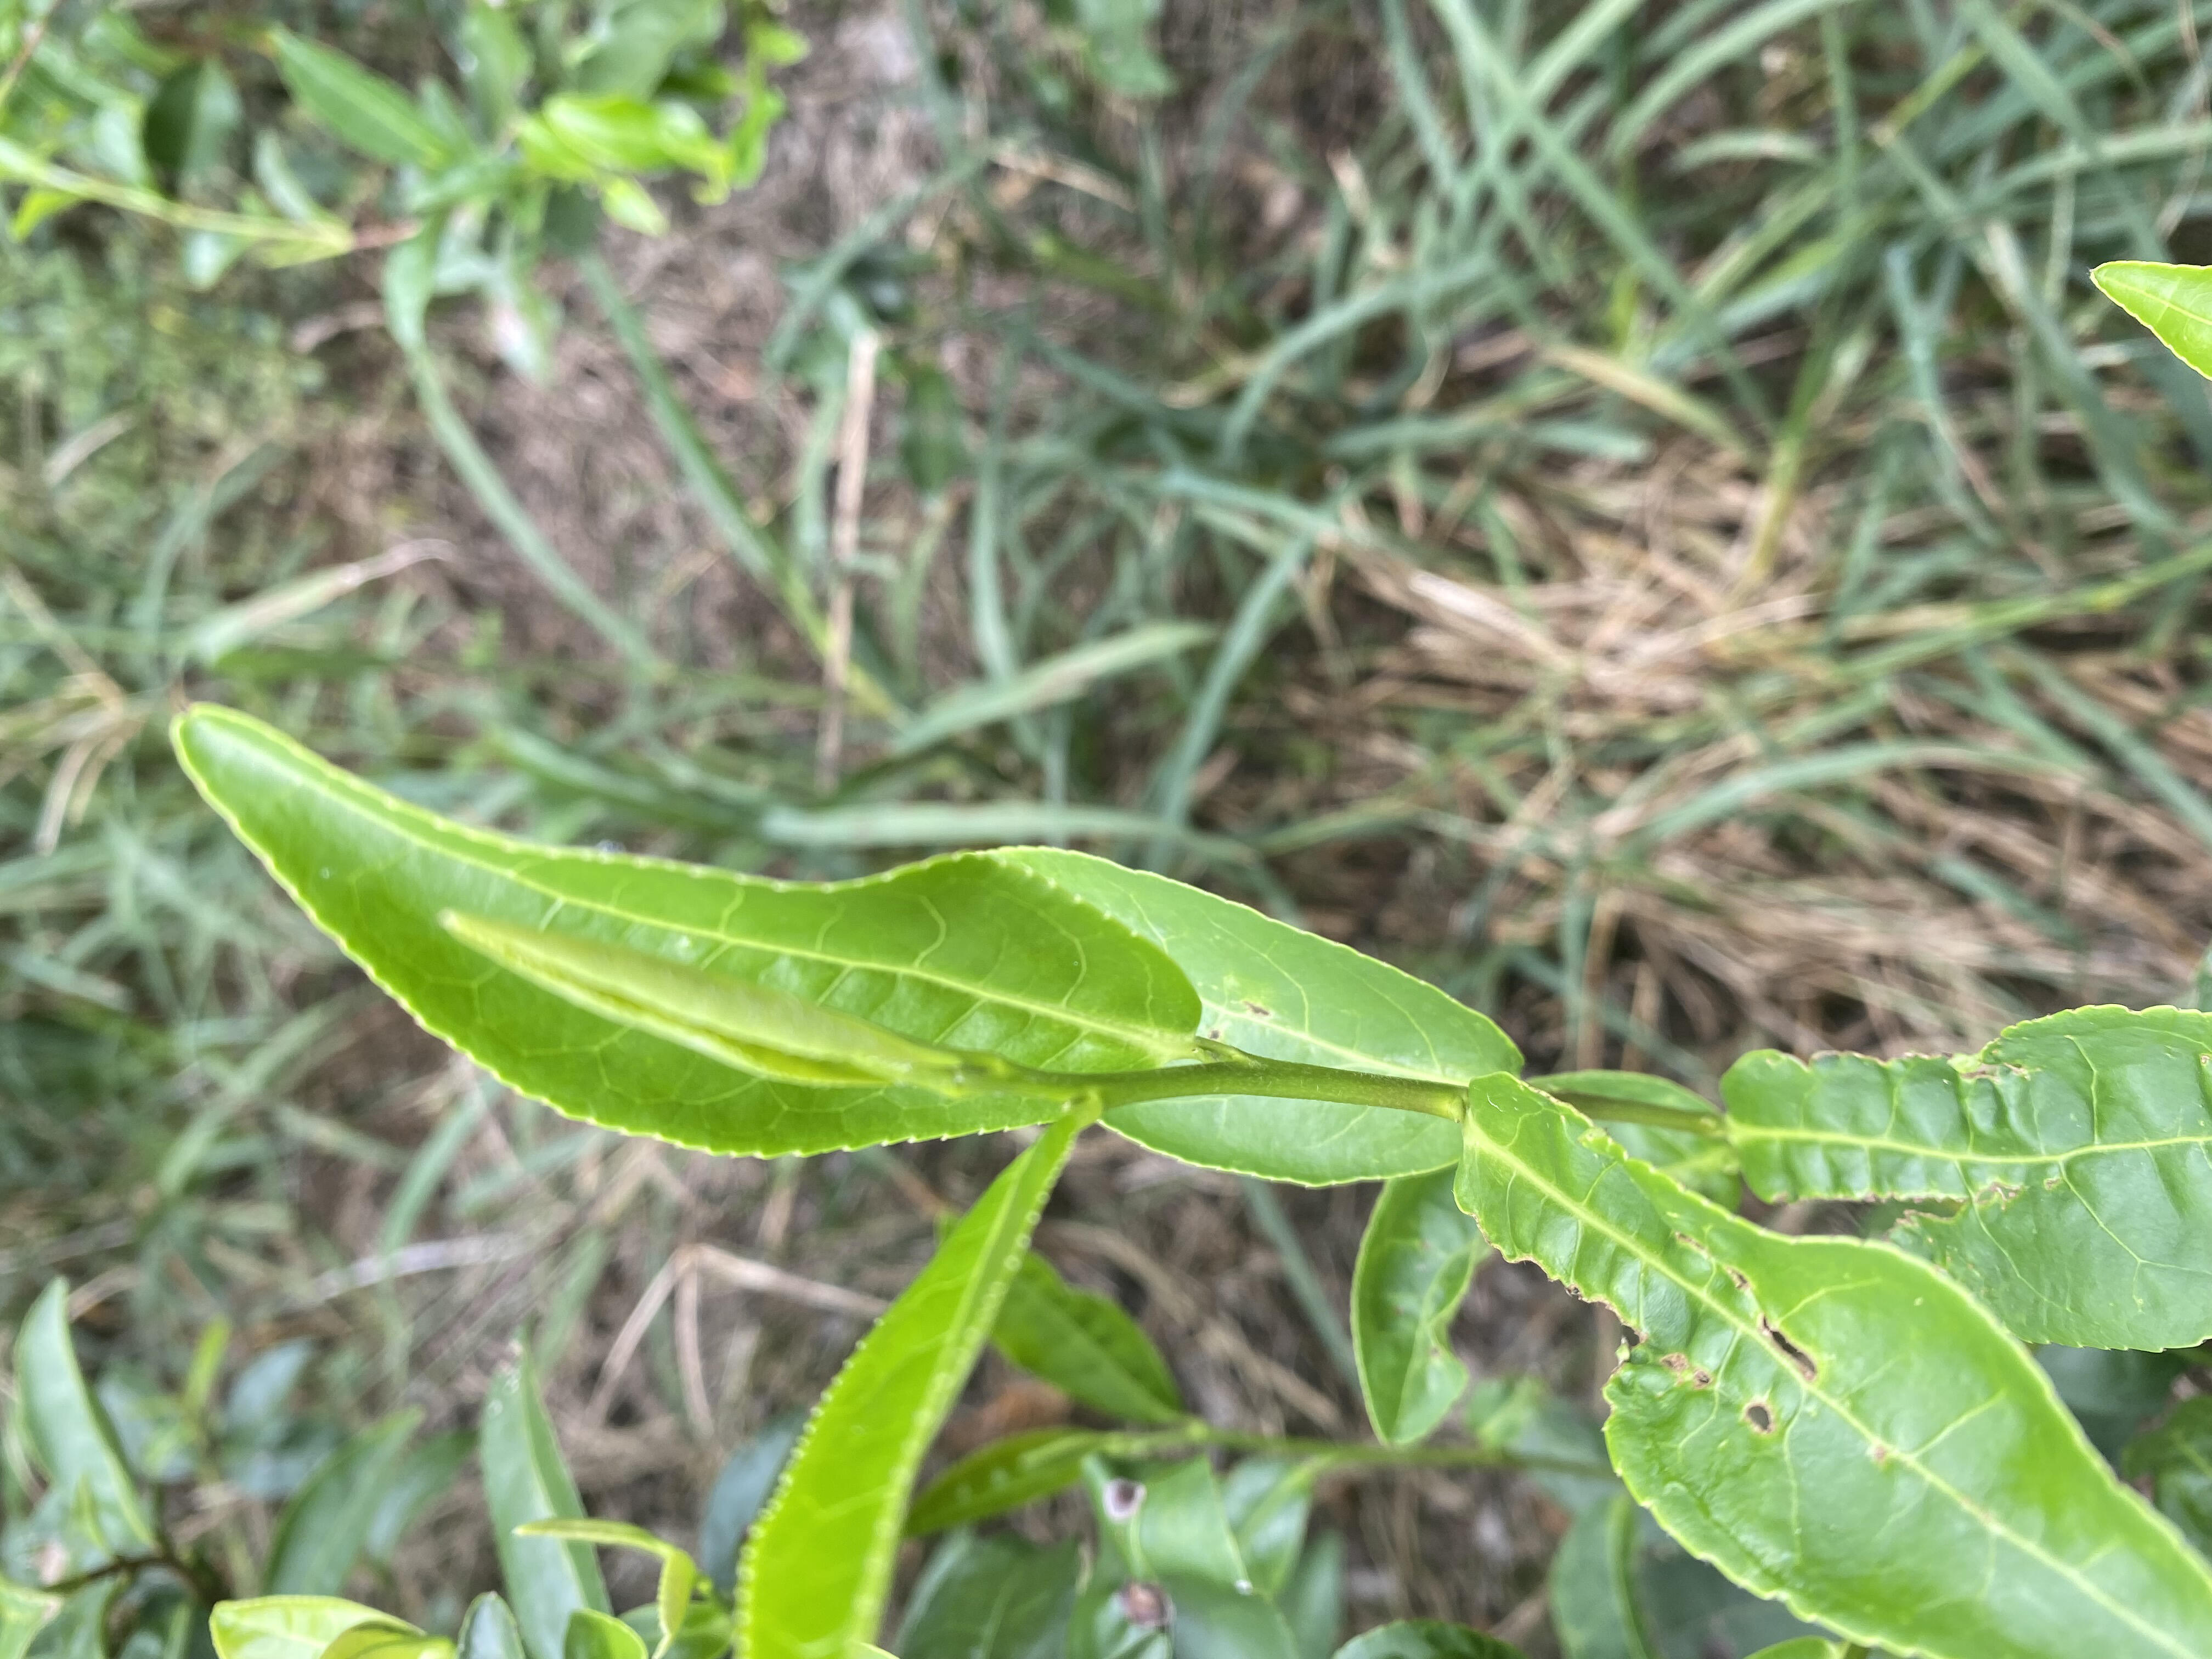chihuo_high: (1449, 1072, 2209, 1654), (1721, 1000, 2212, 1352)
healthy: (169, 701, 1204, 1166), (733, 1100, 1085, 1659)
